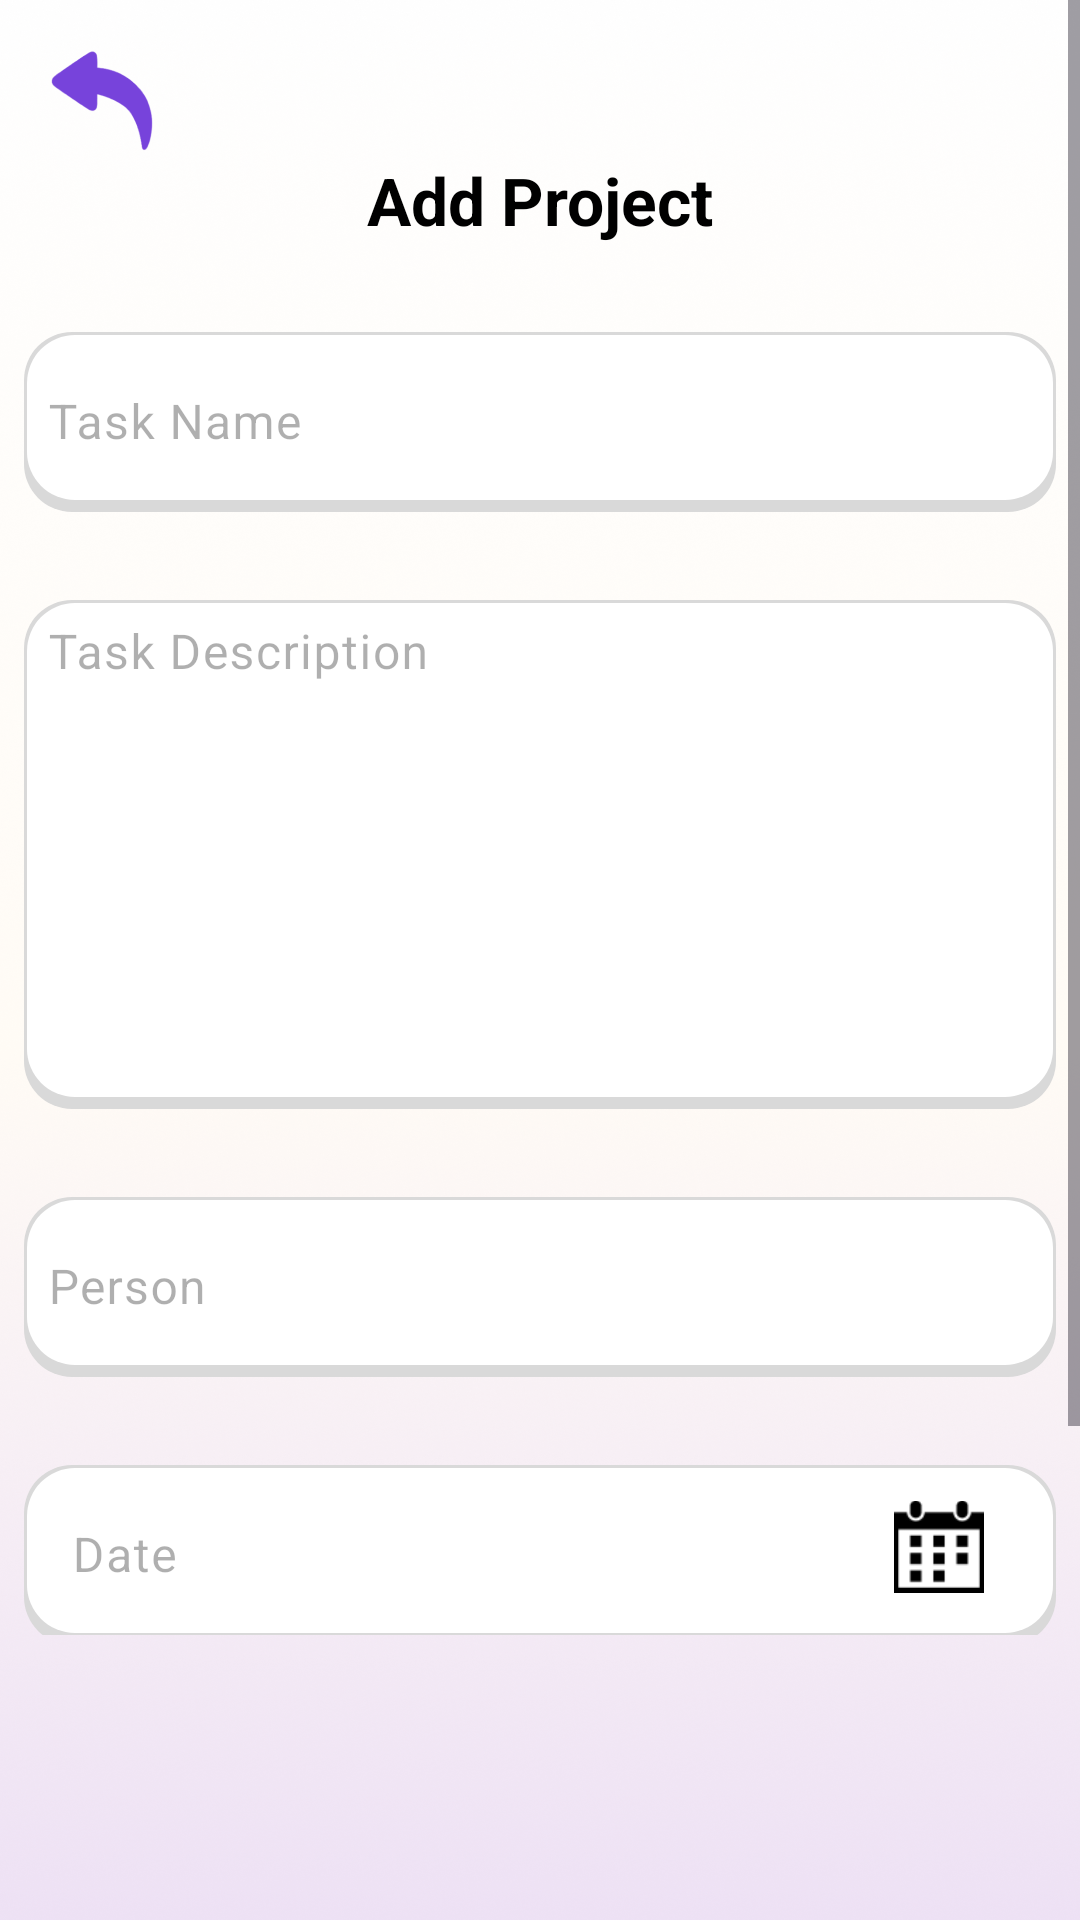

Icons on this 1080 x 1920 Android screen, each with the point to tap as [x,y]:
back: [102,100]
